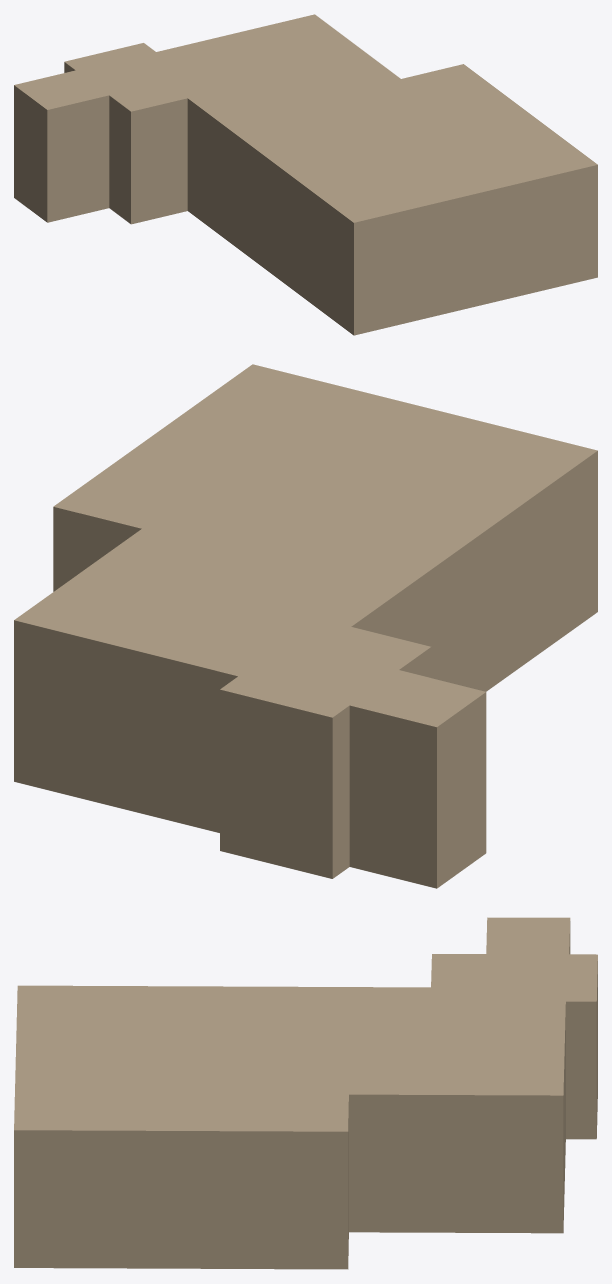
Rendered from bld_104408980.dae.
The picture shows the model from 3 angles, top to bottom: view 1: azimuth 30°, elevation 25°; view 2: azimuth 150°, elevation 25°; view 3: azimuth 270°, elevation 25°; orthographic projection. The views are drawn at different scales.
Parts seen in each view (by area): view 1: bld_104408980; view 2: bld_104408980; view 3: bld_104408980.
Part boxes in pixels (x1,y1,x2,y2): bld_104408980: (14, 14, 597, 335); bld_104408980: (14, 364, 597, 888); bld_104408980: (14, 917, 597, 1269).
Bounding box in the file's own units: 23.35 × 26.9 × 7.
